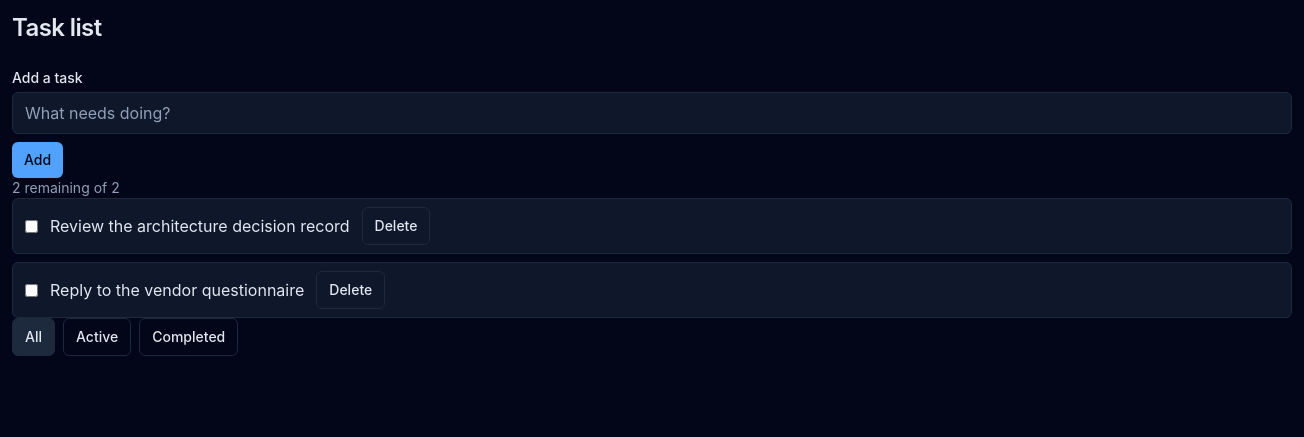
it: TasksPage › appends a typed task to the end of the list
The width and height of the screenshot is (1304, 437).
Type "Draft the incident postmortem" into the field with test id "new-task-input".
click(652, 113); type("Draft the incident postmortem")  # box [12,92,1292,134]
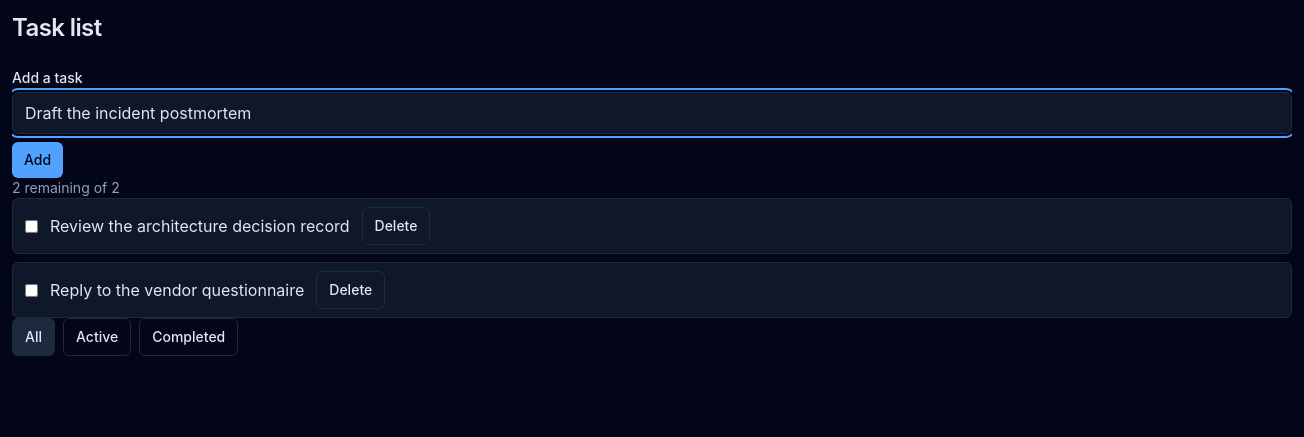
Click the button with test id "add-task-button".
click(38, 160)  # box [12,142,63,178]
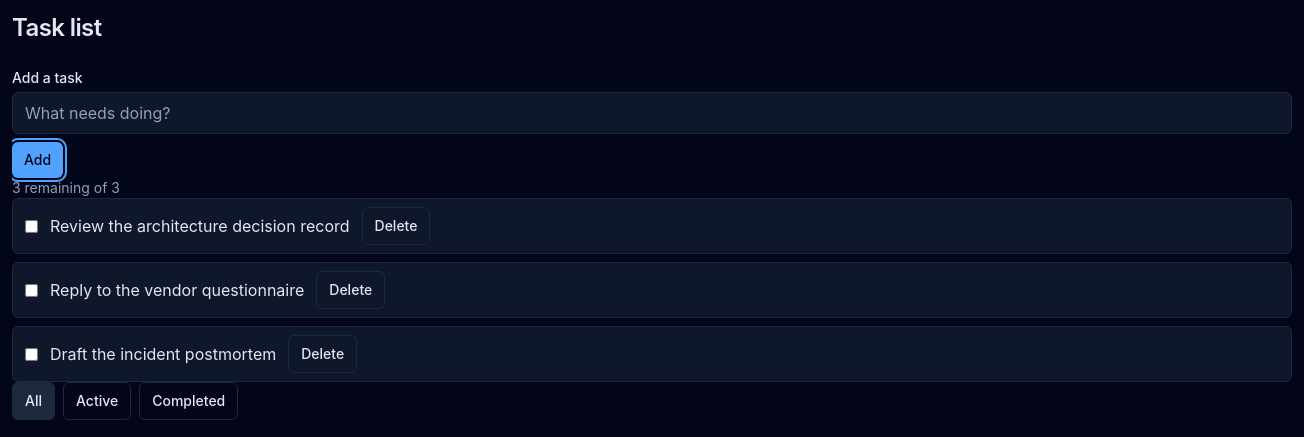
Check: the text with test id "task-title" reads "Draft the incident postmortem", box [50,344,276,364]
